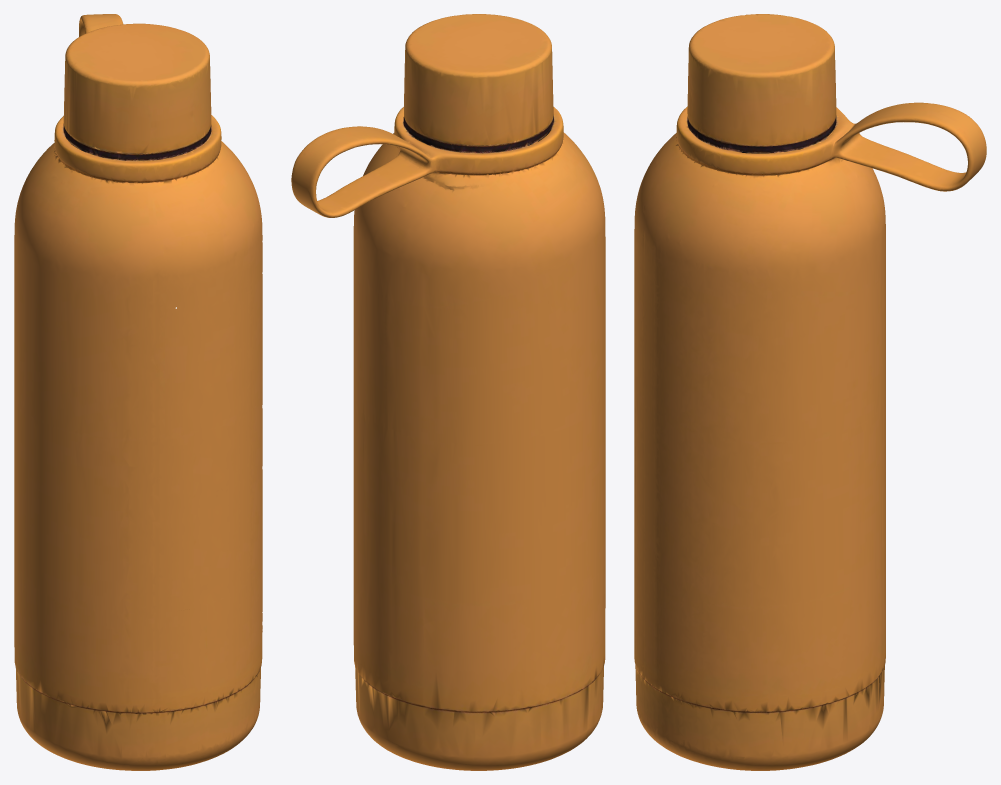
Rendered from loopa_tripo.glb.
The picture shows the model from 3 angles, left to right: view 1: azimuth 30°, elevation 25°; view 2: azimuth 150°, elevation 25°; view 3: azimuth 270°, elevation 25°; orthographic projection.
Visible parts, largest first — view 1: tripo_node_098b637a-6f54-4de4-9b7a-f365b3b311a7; view 2: tripo_node_098b637a-6f54-4de4-9b7a-f365b3b311a7; view 3: tripo_node_098b637a-6f54-4de4-9b7a-f365b3b311a7.
Boxes of the visible parts, <box> form: tripo_node_098b637a-6f54-4de4-9b7a-f365b3b311a7: <box>14,14,262,770</box>; tripo_node_098b637a-6f54-4de4-9b7a-f365b3b311a7: <box>291,14,605,770</box>; tripo_node_098b637a-6f54-4de4-9b7a-f365b3b311a7: <box>634,14,986,770</box>.
Size of the model in its own units: 0.3324 by 1 by 0.4656.
1 material, 1 textured.
